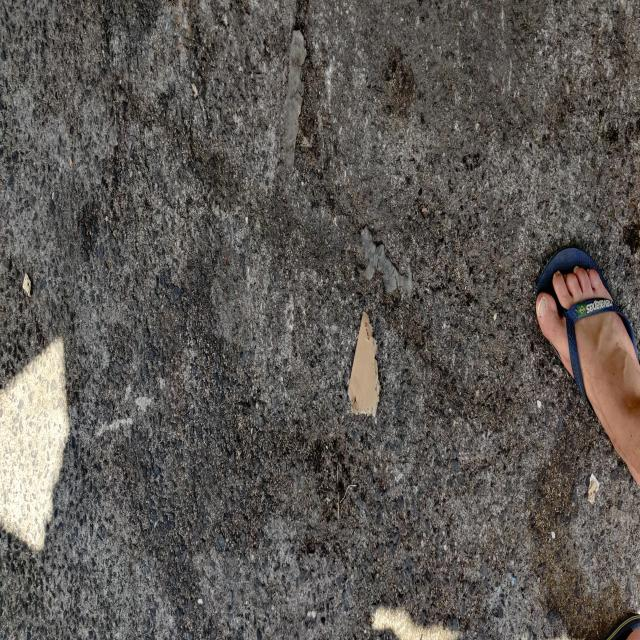litter: (348, 314, 380, 415)
